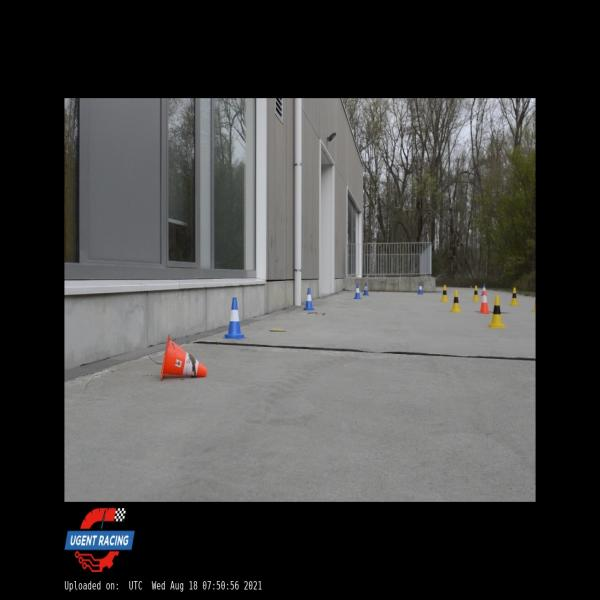blue_cone: (224, 298, 244, 338), (304, 288, 314, 311), (354, 283, 361, 299), (363, 282, 369, 295), (481, 283, 487, 296), (418, 282, 424, 294)
orange_cone: (160, 334, 207, 381), (480, 290, 489, 314)
yellow_cone: (488, 295, 504, 327), (451, 289, 461, 312), (440, 284, 449, 302), (510, 286, 518, 306), (471, 286, 480, 302), (532, 300, 536, 312)
